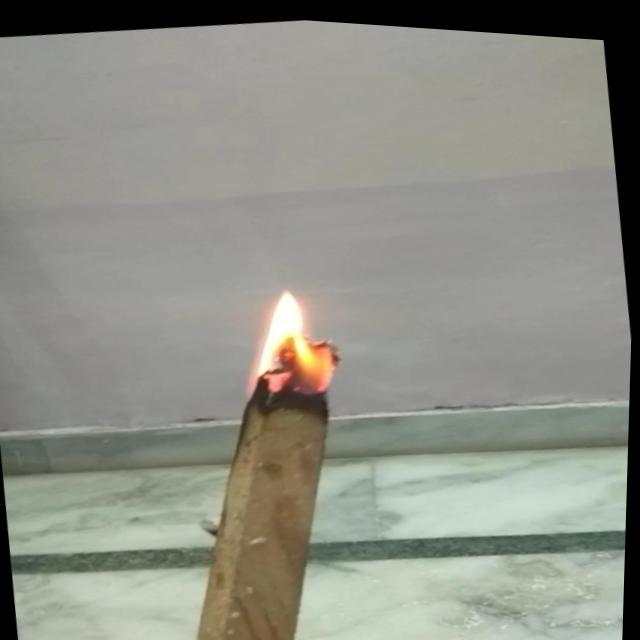fire: (219, 261, 357, 398)
